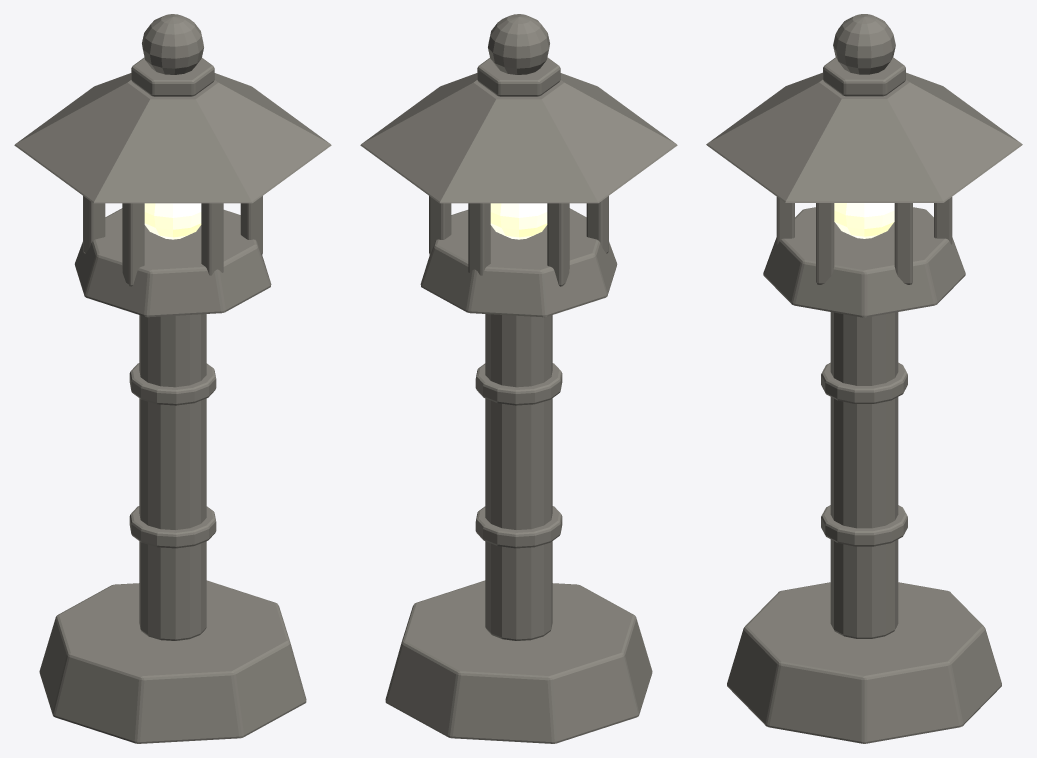
The model's file is prop_lantern.glb.
The picture shows the model from 3 angles, left to right: view 1: azimuth 30°, elevation 25°; view 2: azimuth 150°, elevation 25°; view 3: azimuth 270°, elevation 25°; orthographic projection.
Parts seen in each view (by area): view 1: prop_lantern; view 2: prop_lantern; view 3: prop_lantern.
Part boxes in pixels (bbox=[...]): prop_lantern: bbox=[14, 14, 331, 743]; prop_lantern: bbox=[360, 14, 677, 743]; prop_lantern: bbox=[706, 14, 1022, 743].
Size of the model in its own units: 0.4552 by 1.22 by 0.5238.
